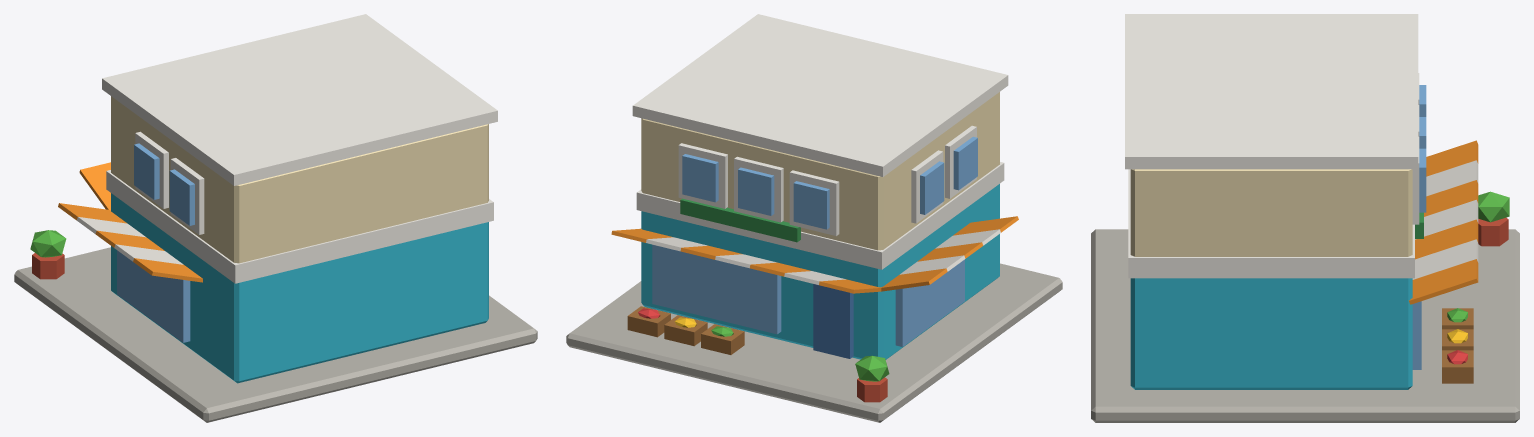
File: kit-cidade-loja-esquina.glb
The picture shows the model from 3 angles, left to right: view 1: azimuth 30°, elevation 25°; view 2: azimuth 150°, elevation 25°; view 3: azimuth 270°, elevation 25°; orthographic projection. The views are drawn at different scales.
Visible parts, largest first — view 1: corpo; view 2: corpo; view 3: corpo.
Part boxes in pixels (bbox=[...]): corpo: bbox=[14, 14, 537, 422]; corpo: bbox=[566, 14, 1062, 422]; corpo: bbox=[1091, 14, 1519, 422].
Bounding box in the file's own units: 1.92 × 1.24 × 1.9.
